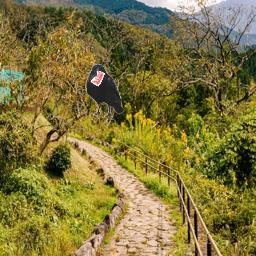Crow: (86, 64, 124, 120)
